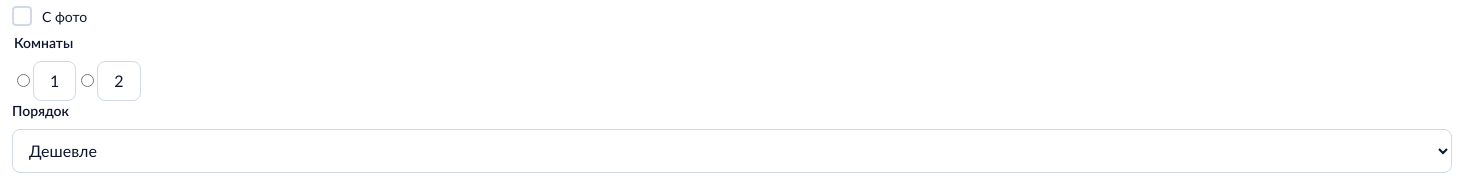
Test case: UI controls › supports keyboard selection and native form values
Later steps or results of the test are not shown.
Press Tab
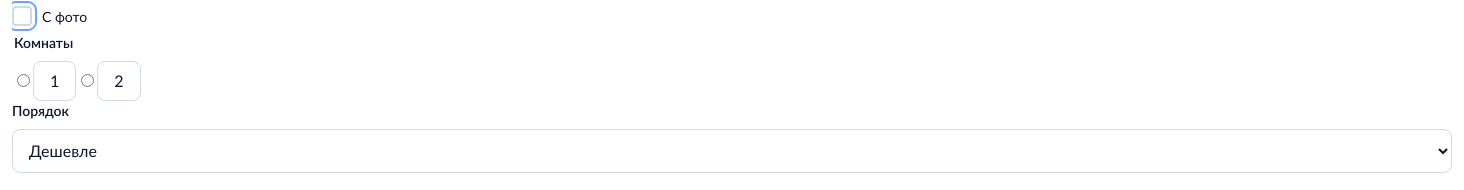
Type keys " "
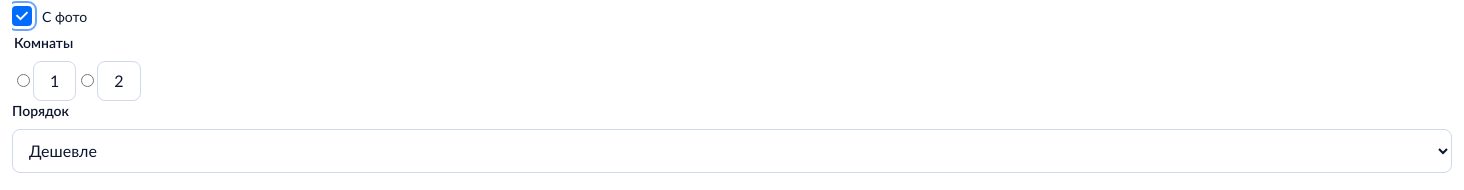
Expected: the checkbox labelled "С фото" is checked, [12,0,87,32]
Click the radio button labelled "2": [88, 80] box [81,74,94,87]
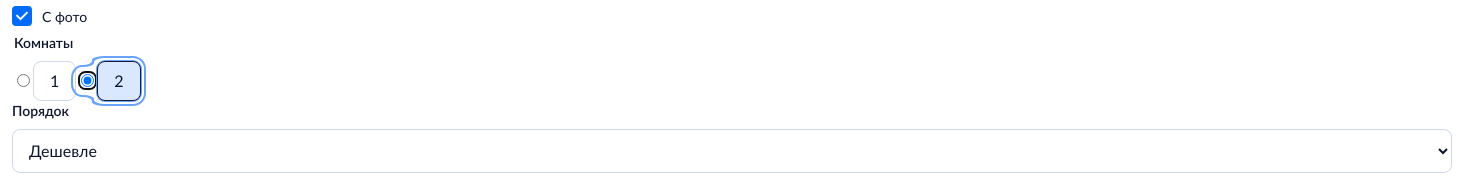
Expected: the radio button labelled "1" is not checked, [17,74,30,87]
Expected: the radio button labelled "2" is checked, [81,74,94,87]
